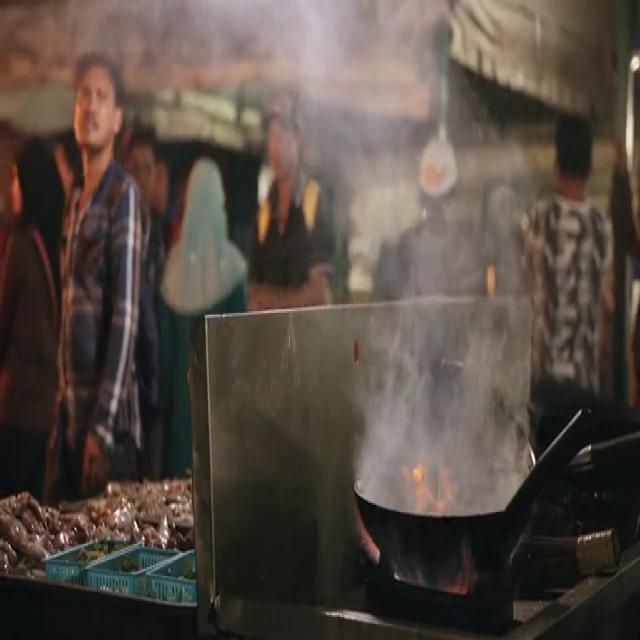smoke: (350, 248, 534, 496)
